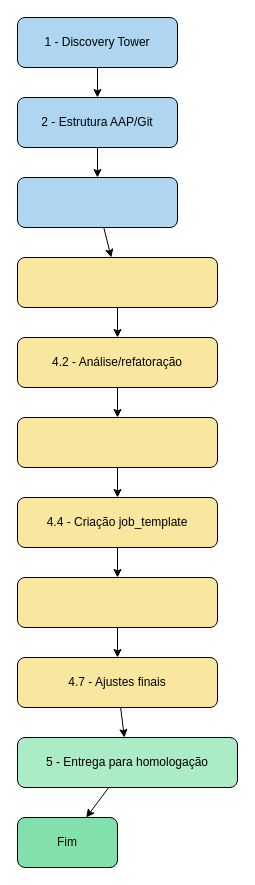
Image size: 255x885. Some labels were removed from this diagram. The centre of each missing label's shape, as x and y in pixels:
"3 - Mapeamento de Jobs" belongs at point (97, 202).
"4.1 - Cópia do código" belongs at point (117, 282).
"4.3 - Execution-environment" belongs at point (117, 442).
"4.5 - Teste de execução" belongs at point (117, 602).
